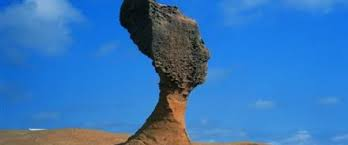yehliu: (110, 1, 221, 92)
